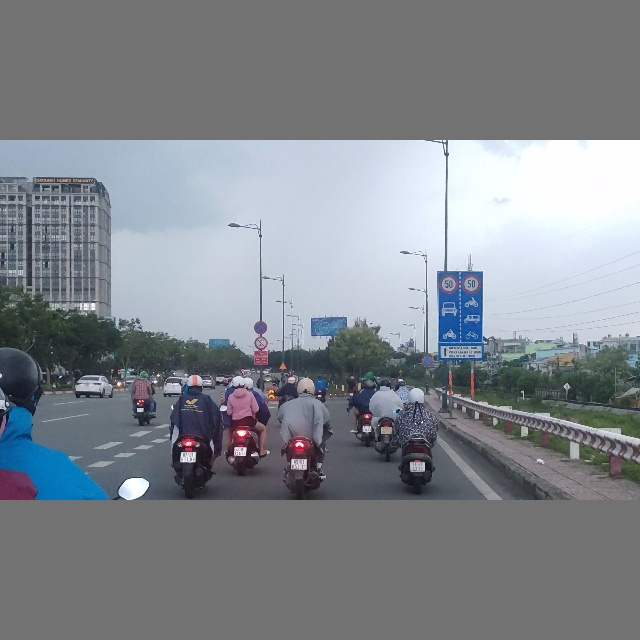P.111: (254, 336, 268, 350)
P.127*50: (461, 273, 481, 293), (439, 274, 459, 294)
P.130: (254, 320, 268, 335)
P.131a: (421, 355, 433, 367)
W.201a: (279, 361, 287, 370)
